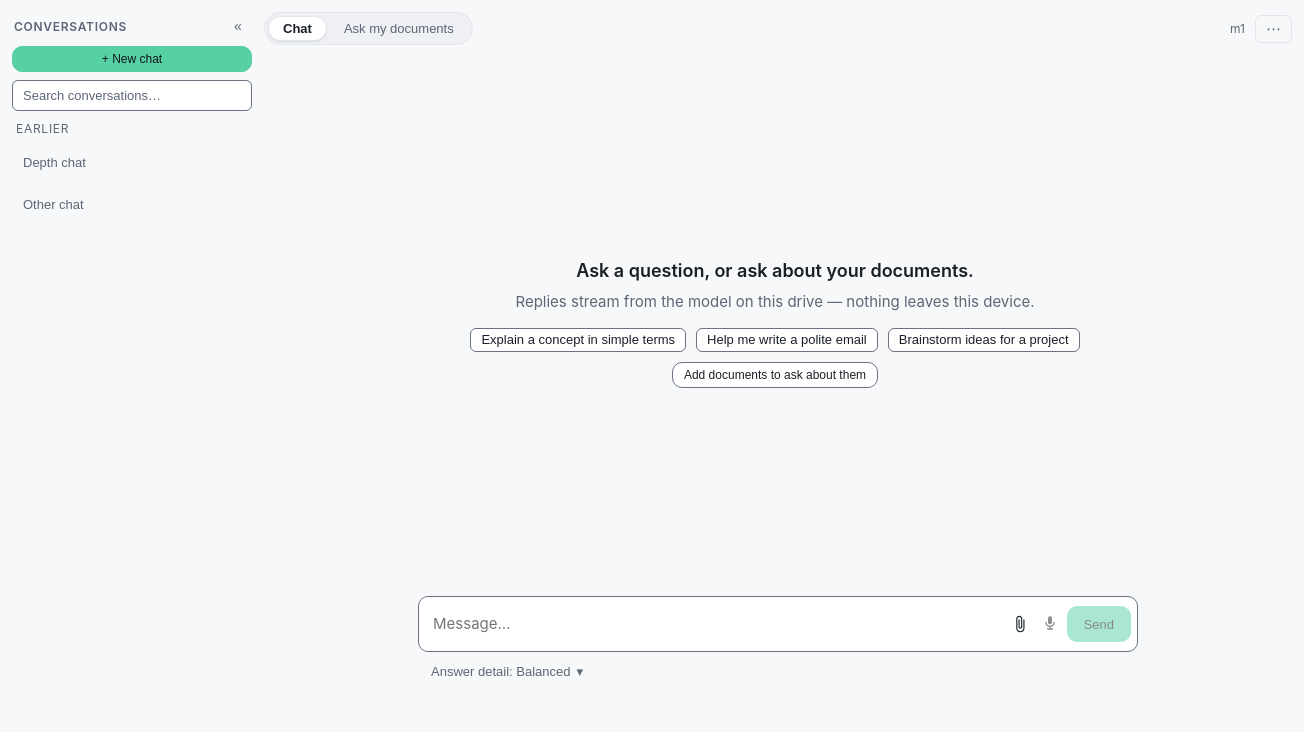
ChatScreen — "Answer detail" dropdown (Phase 20 / D-UI4) › keeps the depth sticky per conversation
What coordinates should you click on to do the following:
click the button "Depth chat"
I would click on:
 (116, 162)
Its box is x1=12 y1=142 x2=221 y2=182.
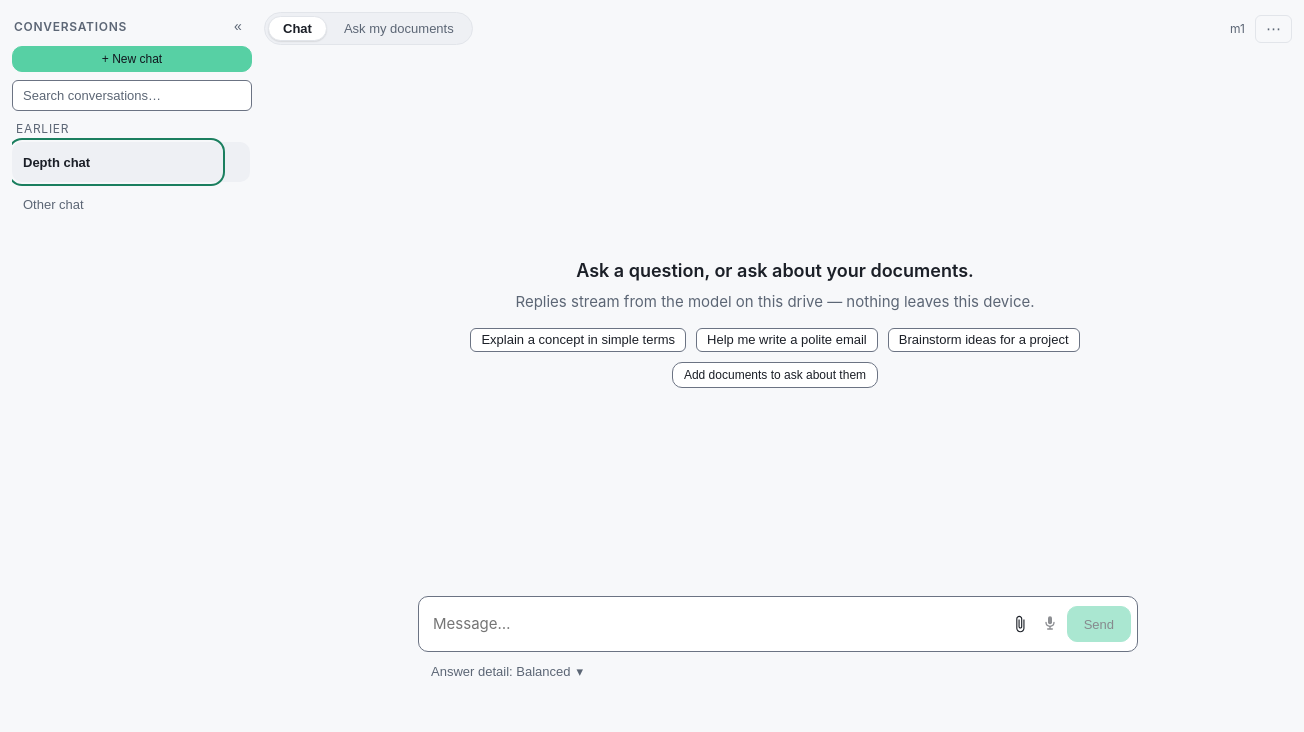
What coordinates should you click on to do the following:
click the button "Answer detail: Balanced ▾"
I would click on:
 (507, 671)
Its box is x1=422 y1=659 x2=592 y2=683.
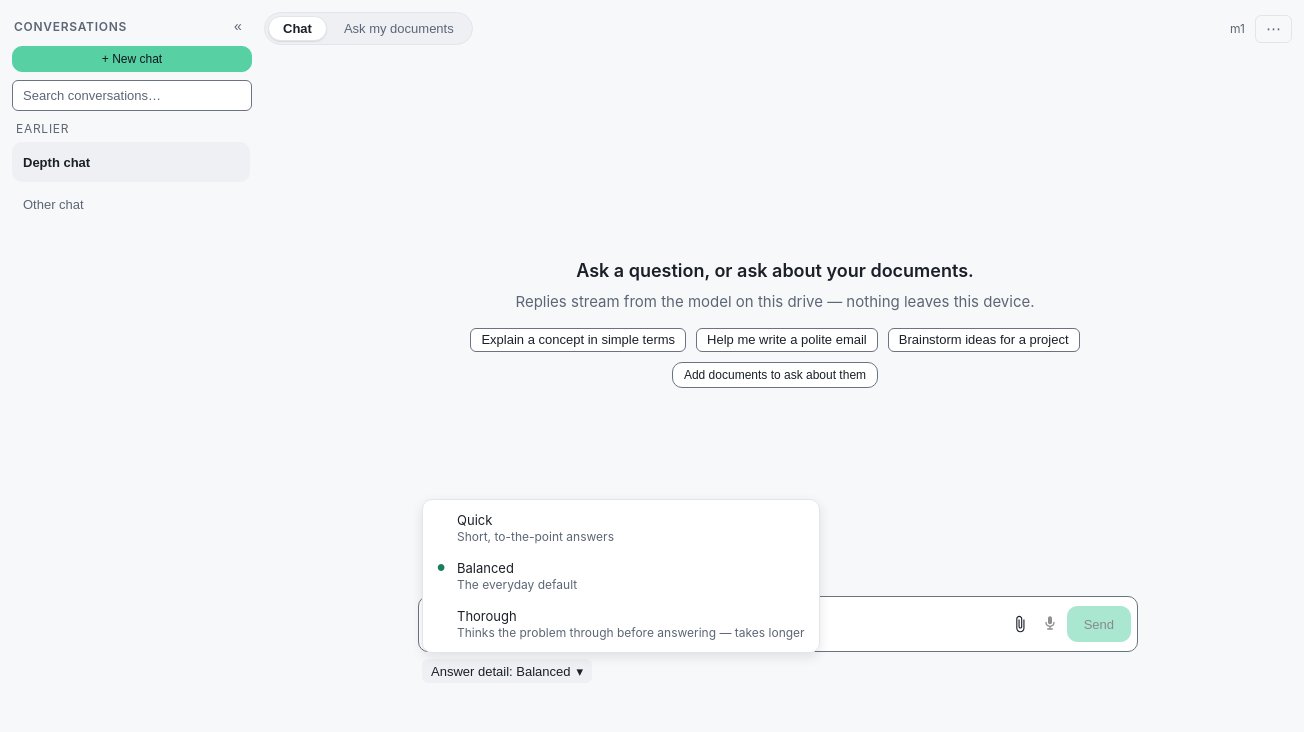
What coordinates should you click on to do the following:
click the menu item "Quick Short, to-the-point answers"
I would click on:
 (536, 528)
Its box is x1=457 y1=512 x2=614 y2=544.
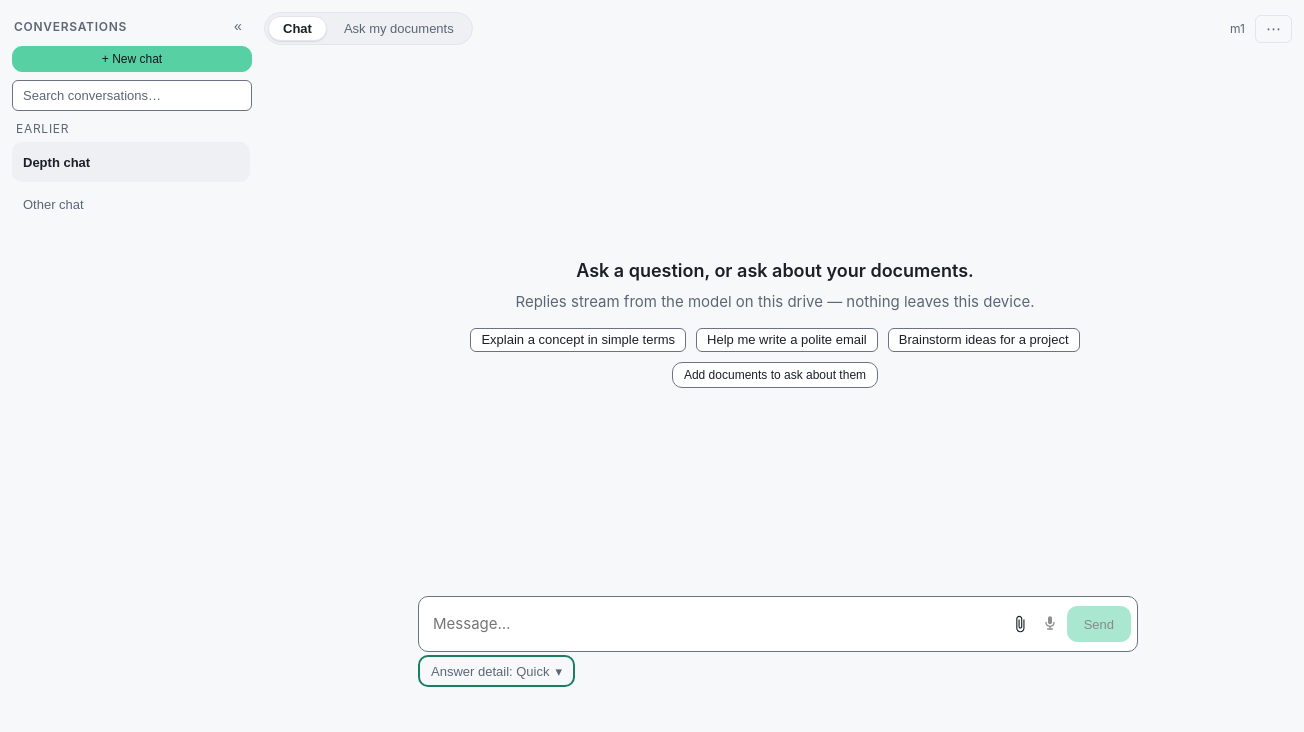
Result: the button "Answer detail: Quick ▾" is shown at x1=422 y1=659 x2=571 y2=683
Note: The other conversation starts on the balanced default…
What coordinates should you click on to do the following:
click the button "Other chat"
I would click on:
 (116, 204)
Its box is x1=12 y1=184 x2=221 y2=224.
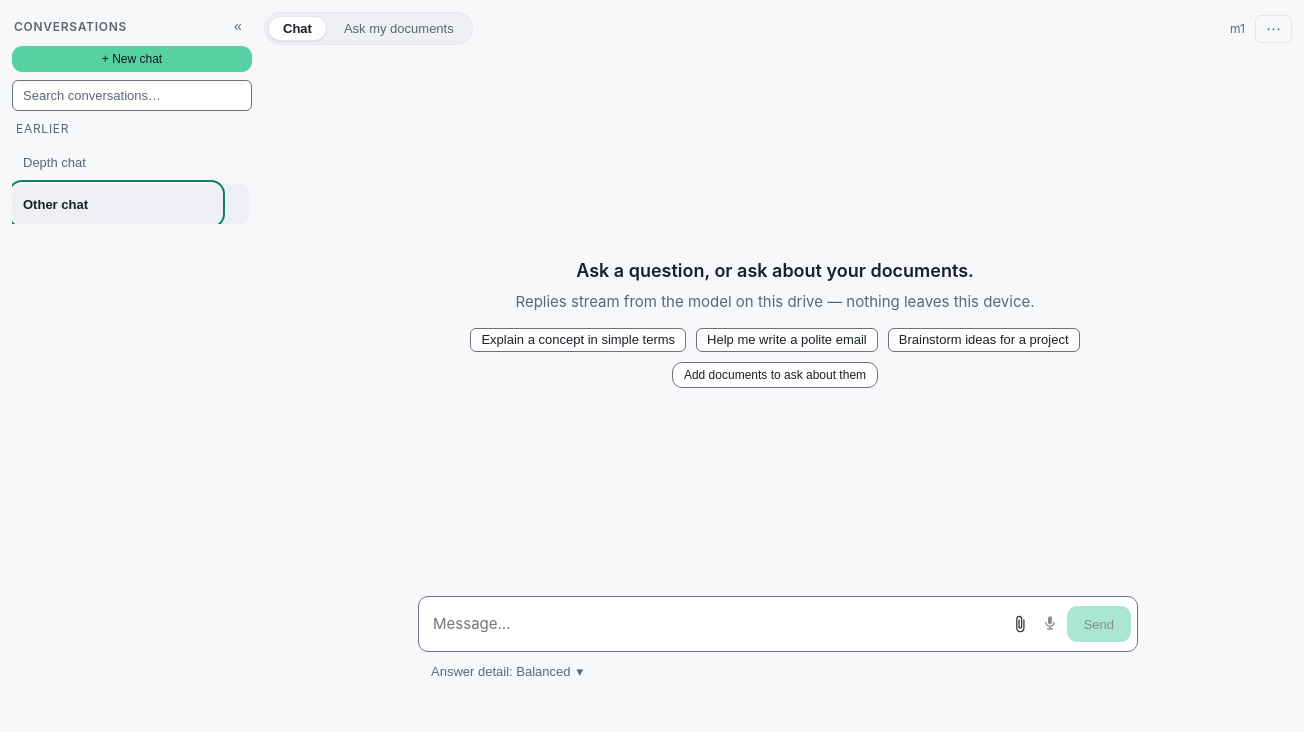
Result: the button "Answer detail: Balanced ▾" is shown at x1=422 y1=659 x2=592 y2=683
Note: …and coming back restores this conversation's choice.
What coordinates should you click on to do the following:
click the button "Depth chat"
I would click on:
 (116, 162)
Its box is x1=12 y1=142 x2=221 y2=182.
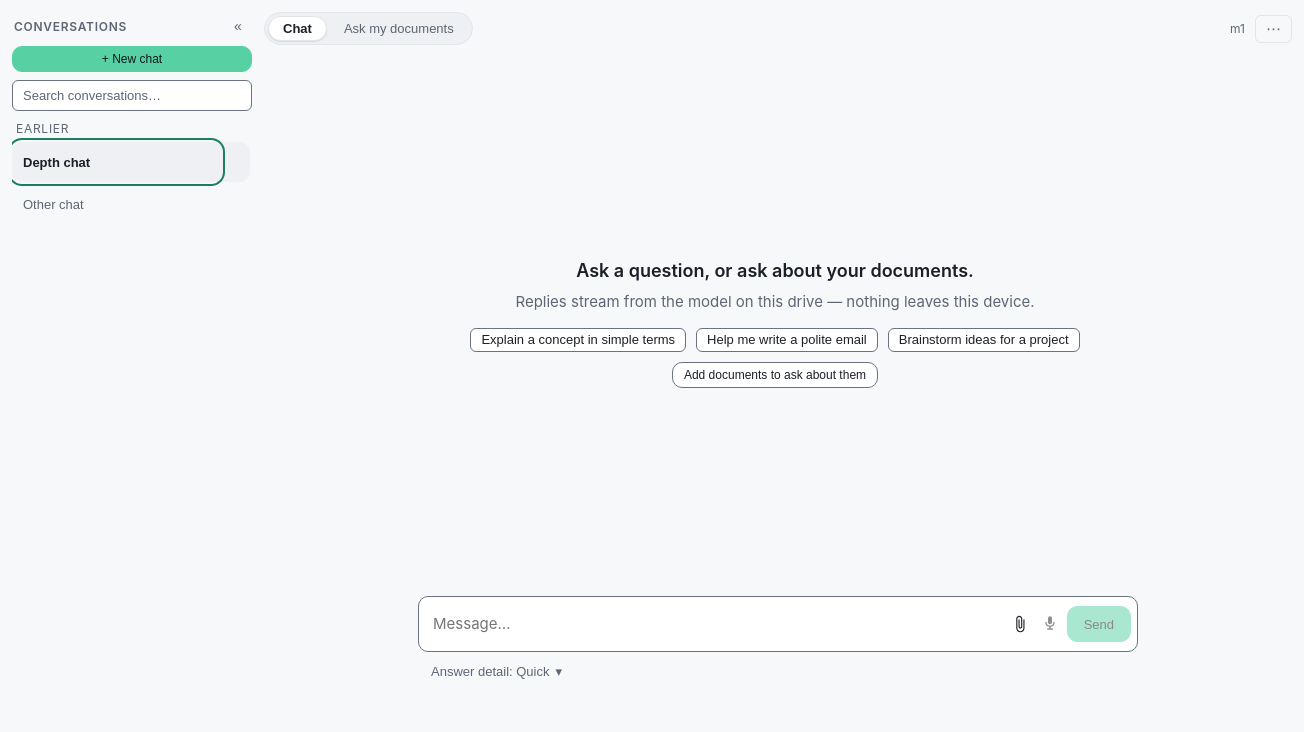
Result: the button "Answer detail: Quick ▾" is shown at x1=422 y1=659 x2=571 y2=683
